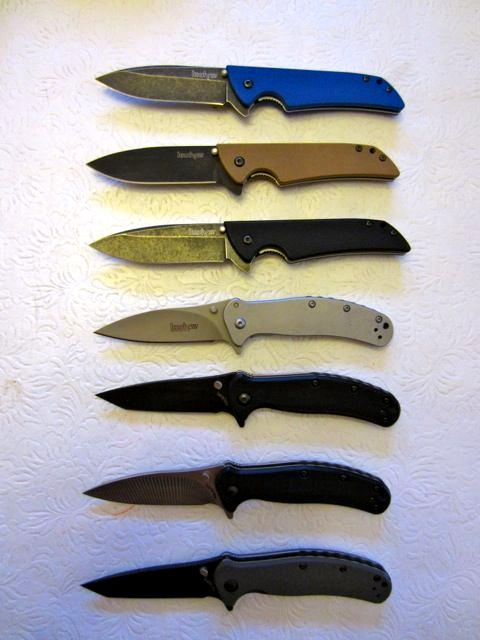pocket-knife: (77, 542, 394, 616), (89, 54, 409, 124), (79, 456, 397, 526), (92, 366, 408, 436), (86, 211, 420, 273), (93, 291, 397, 357), (86, 138, 404, 196)
